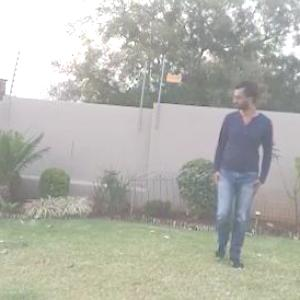follow: (209, 76, 268, 269)
